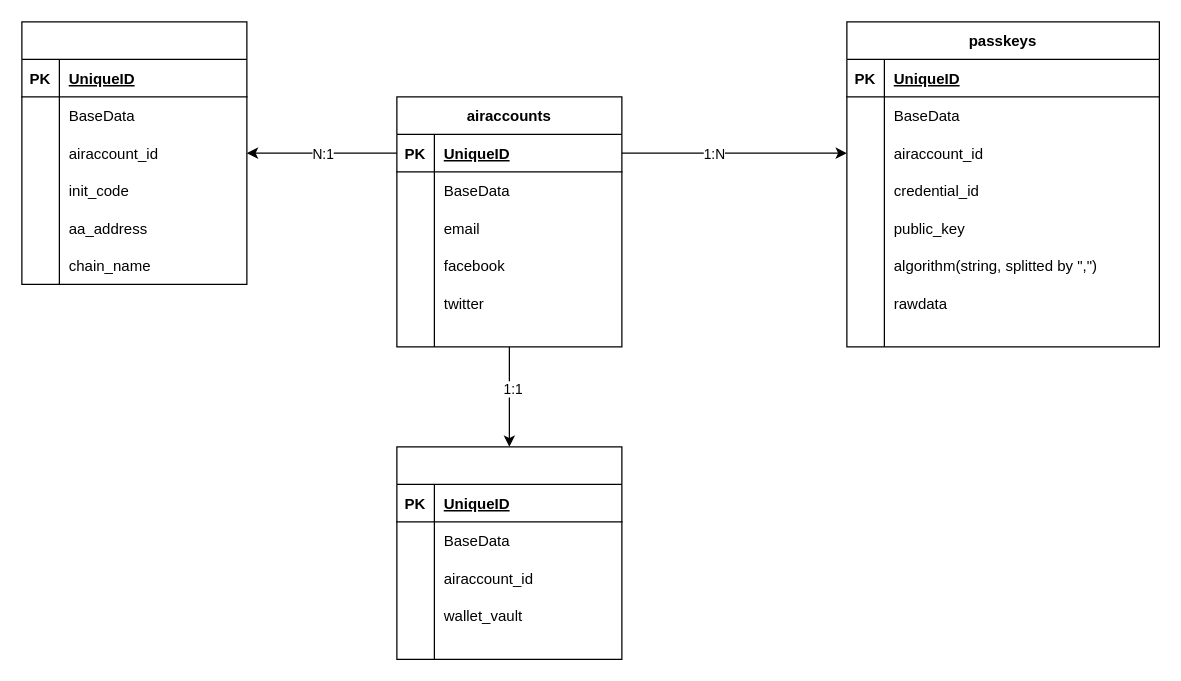
Some shapes in this 1181 by 681 pixel diagram are drawn without their labels. The shapes that lost their labels are listed below. From the top down, each one's box as (x1, y1, x2, y2) in pixels, then its label:
(21, 21, 247, 284): airaccount_chains
(396, 446, 622, 659): hdwallets
